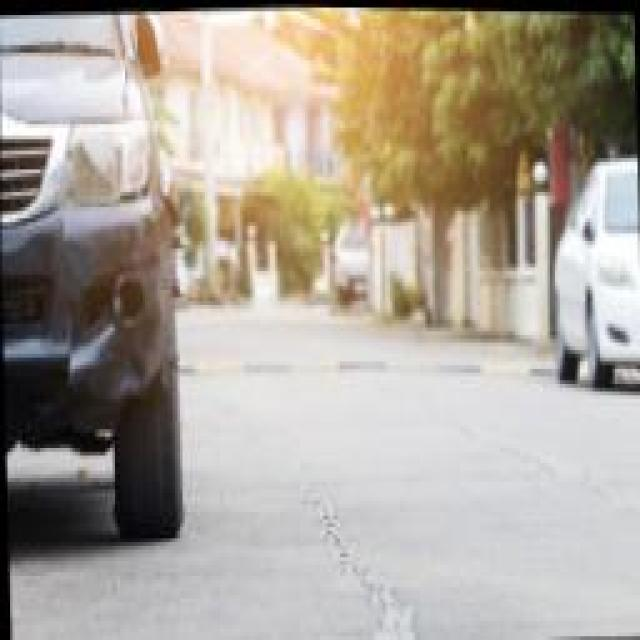Bumper: (62, 196, 181, 409)
